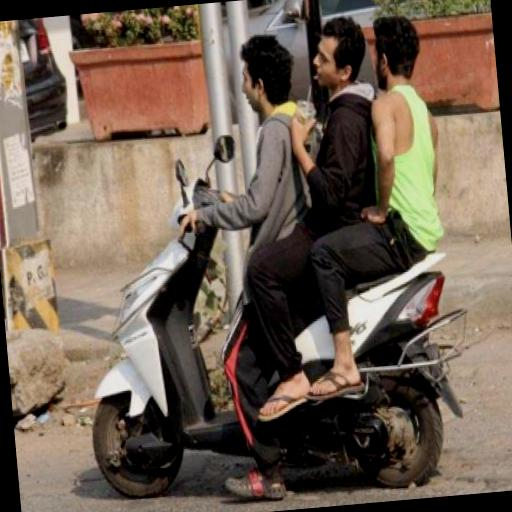no helmet: (222, 25, 312, 140)
triple riding: (213, 0, 462, 455)
